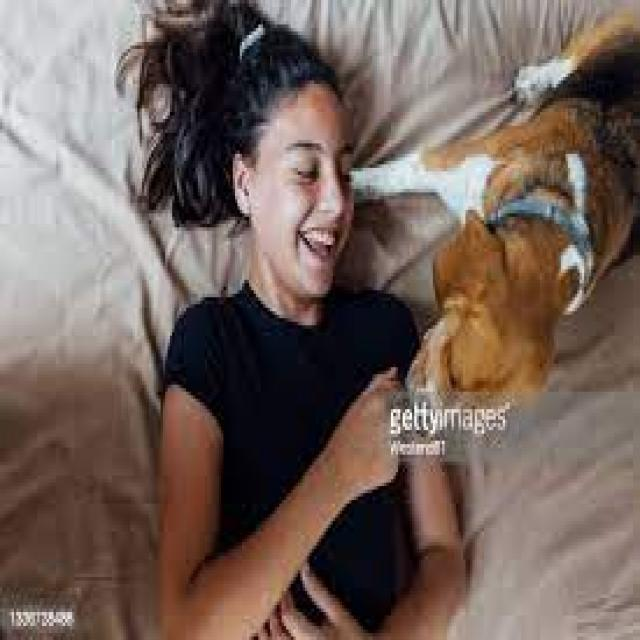Dog: (350, 14, 640, 403)
